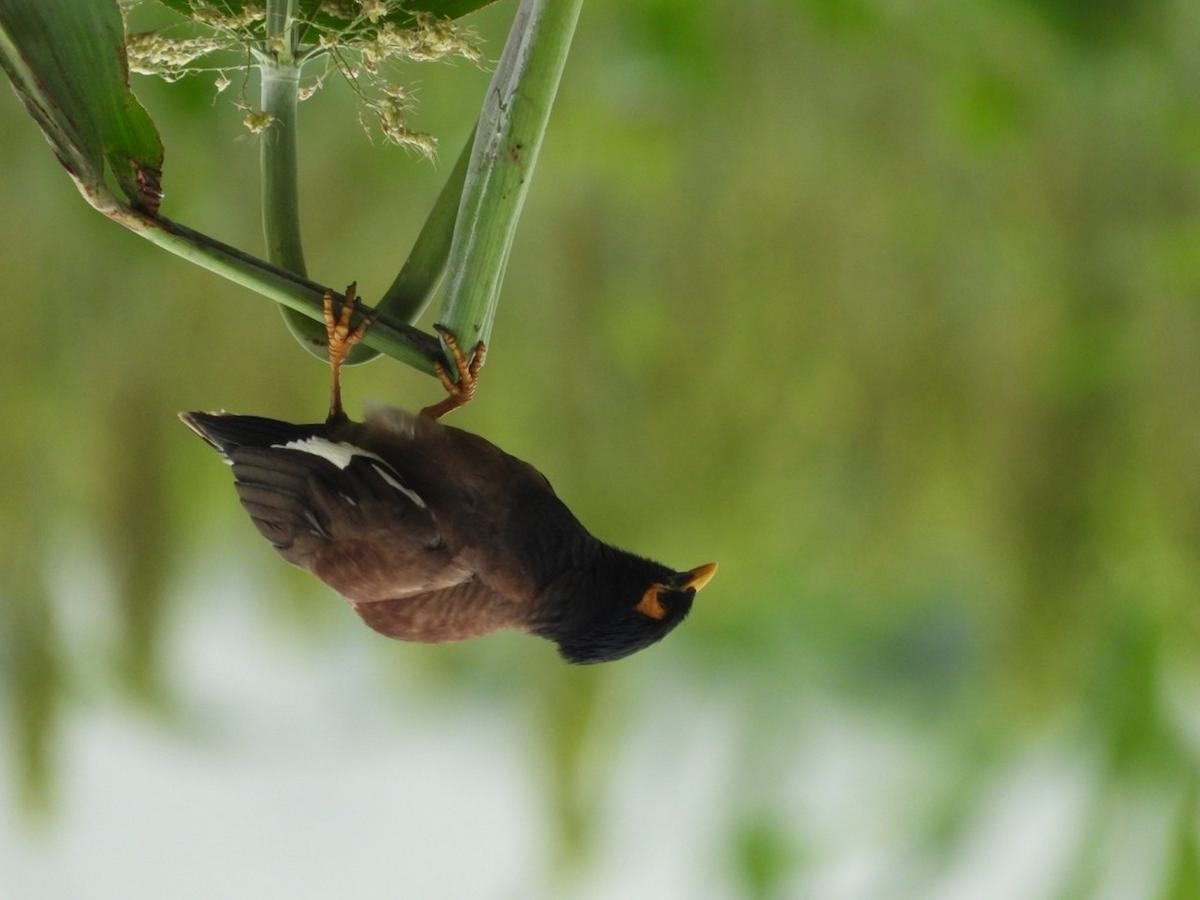myna: (205, 257, 743, 694)
